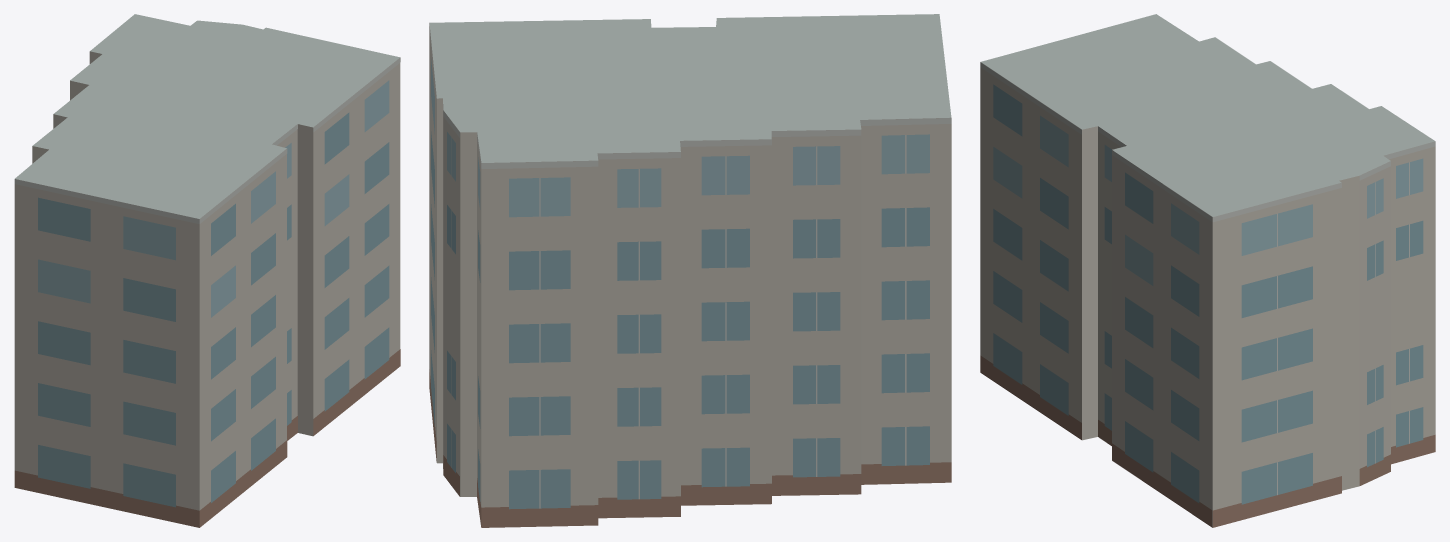
The model's file is survey-upis-32731085.glb.
3 views of the same model, side by side, from view 1: azimuth 30°, elevation 25°; view 2: azimuth 150°, elevation 25°; view 3: azimuth 270°, elevation 25° (orthographic). The views are drawn at different scales.
Parts seen in each view (by area): view 1: survey-upis-32731085.tmp; view 2: survey-upis-32731085.tmp; view 3: survey-upis-32731085.tmp.
Part boxes in pixels (left/top/right/bottom): survey-upis-32731085.tmp: left=14, top=14, right=400, bottom=527; survey-upis-32731085.tmp: left=429, top=14, right=951, bottom=527; survey-upis-32731085.tmp: left=980, top=14, right=1435, bottom=527.
Bounding box in the file's own units: 20.48 × 14.6 × 19.39.
